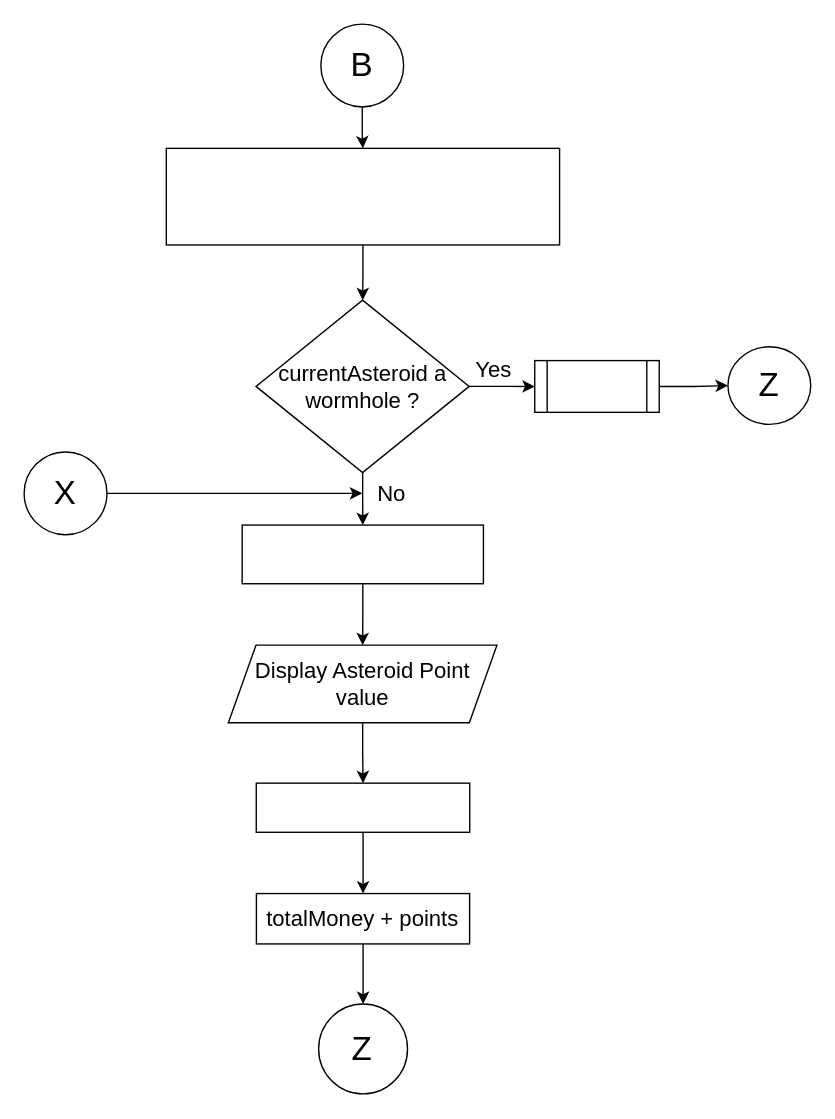
Image size: 835x1119. Some labels were removed from this diagram. The centre of each missing label's shape, as x and y in pixels:
"points = asteroidPoints" goes at (362,554).
"Switch" goes at (596,385).
"totalPoints + points" goes at (362,807).
"wormholeScenario = Random number between 1 and 4" goes at (362,196).
